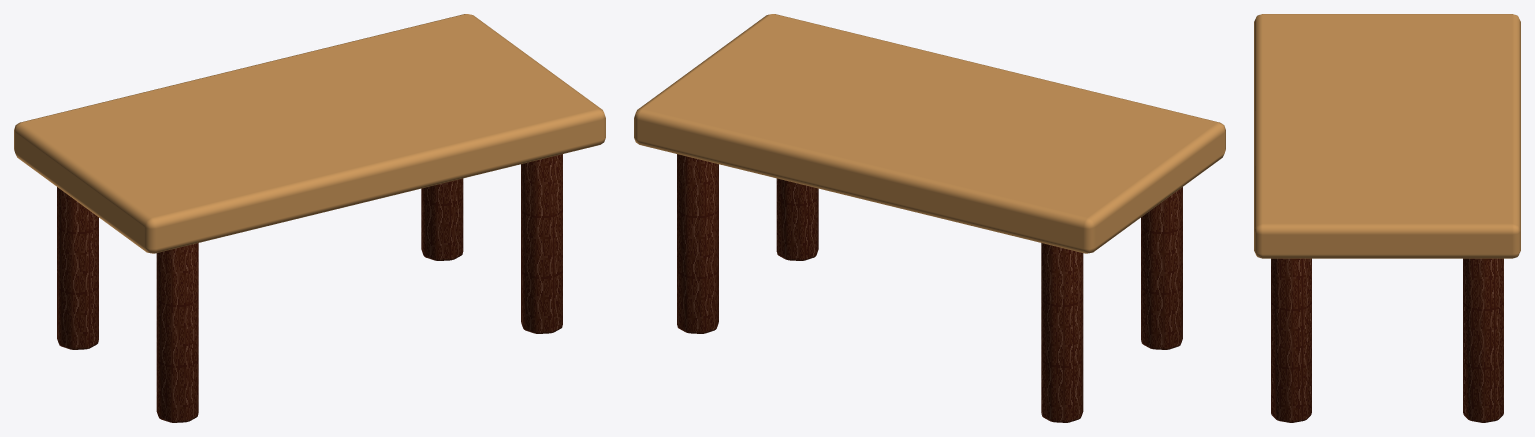
Rendered from table.glb.
3 renders of one model, left to right at view 1: azimuth 30°, elevation 25°; view 2: azimuth 150°, elevation 25°; view 3: azimuth 270°, elevation 25°, orthographic. The views are drawn at different scales.
Visible parts, largest first — view 1: table_top, table_wood; view 2: table_top, table_wood; view 3: table_top, table_wood.
Boxes of the visible parts, x1,y1,x2,y2 form: table_top: (14, 14, 605, 253); table_wood: (57, 154, 562, 422); table_top: (634, 14, 1225, 253); table_wood: (677, 154, 1182, 422); table_top: (1254, 14, 1520, 258); table_wood: (1271, 258, 1503, 422).
Bounding box in the file's own units: 2.4 × 1.09 × 1.25.
Materials: 2 (1 with a texture image).
